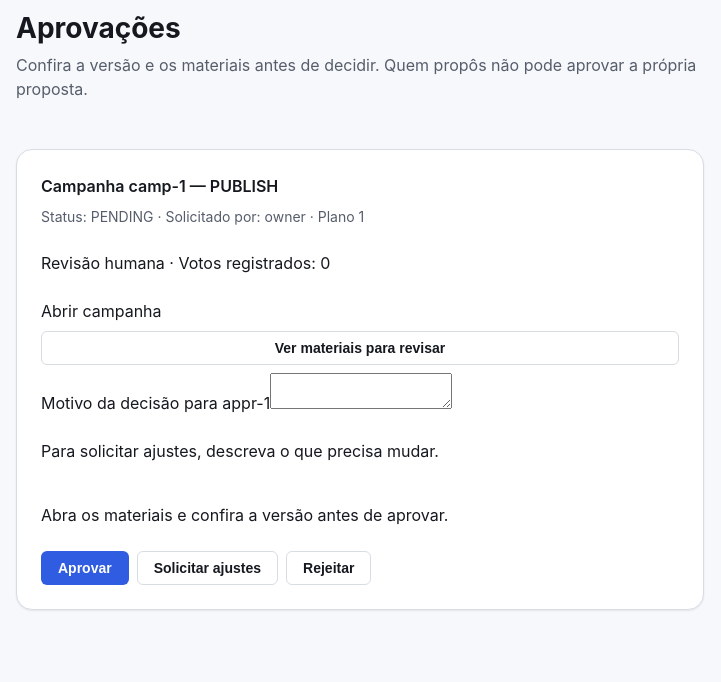
Scenario: ApprovalsPage › a confirmed vote remains confirmed if reloading the queue fails
This screenshot has width=721, height=682.
Click the button with test id "reject-appr-1". click: point(329, 568)
box: [286,551,372,585]
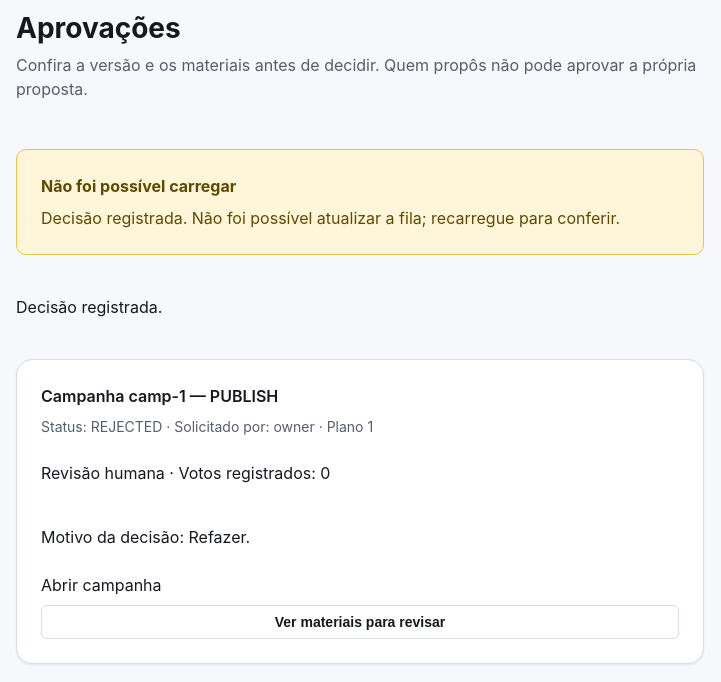
Expected: the text "Decisão registrada. Não foi possível atualizar a fila; recarregue para conferir." is shown, [41,206,620,230]
Expected: the button with test id "approve-appr-1" is gone
